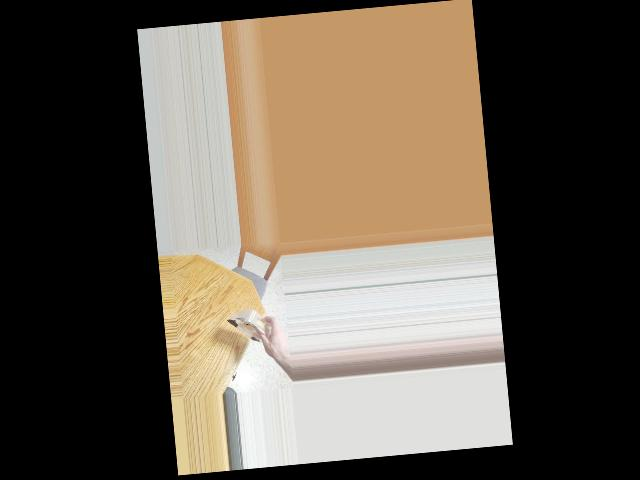cheese: (230, 297, 274, 350)
